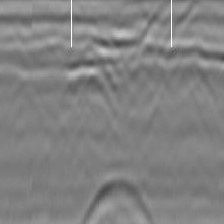Utility: (81, 173, 154, 224)
